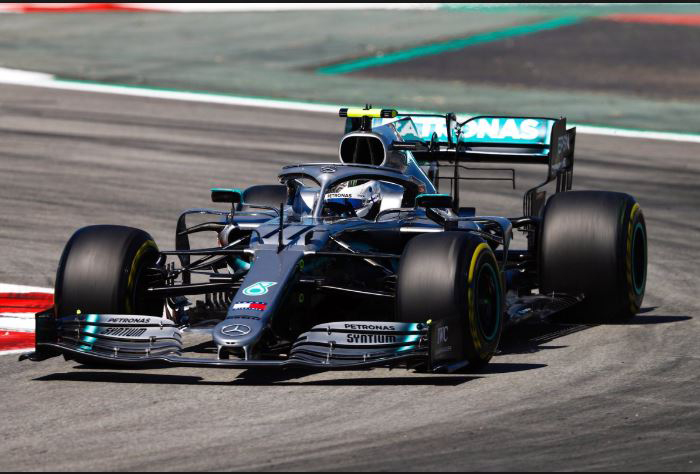F1 Car: (23, 95, 653, 387)
